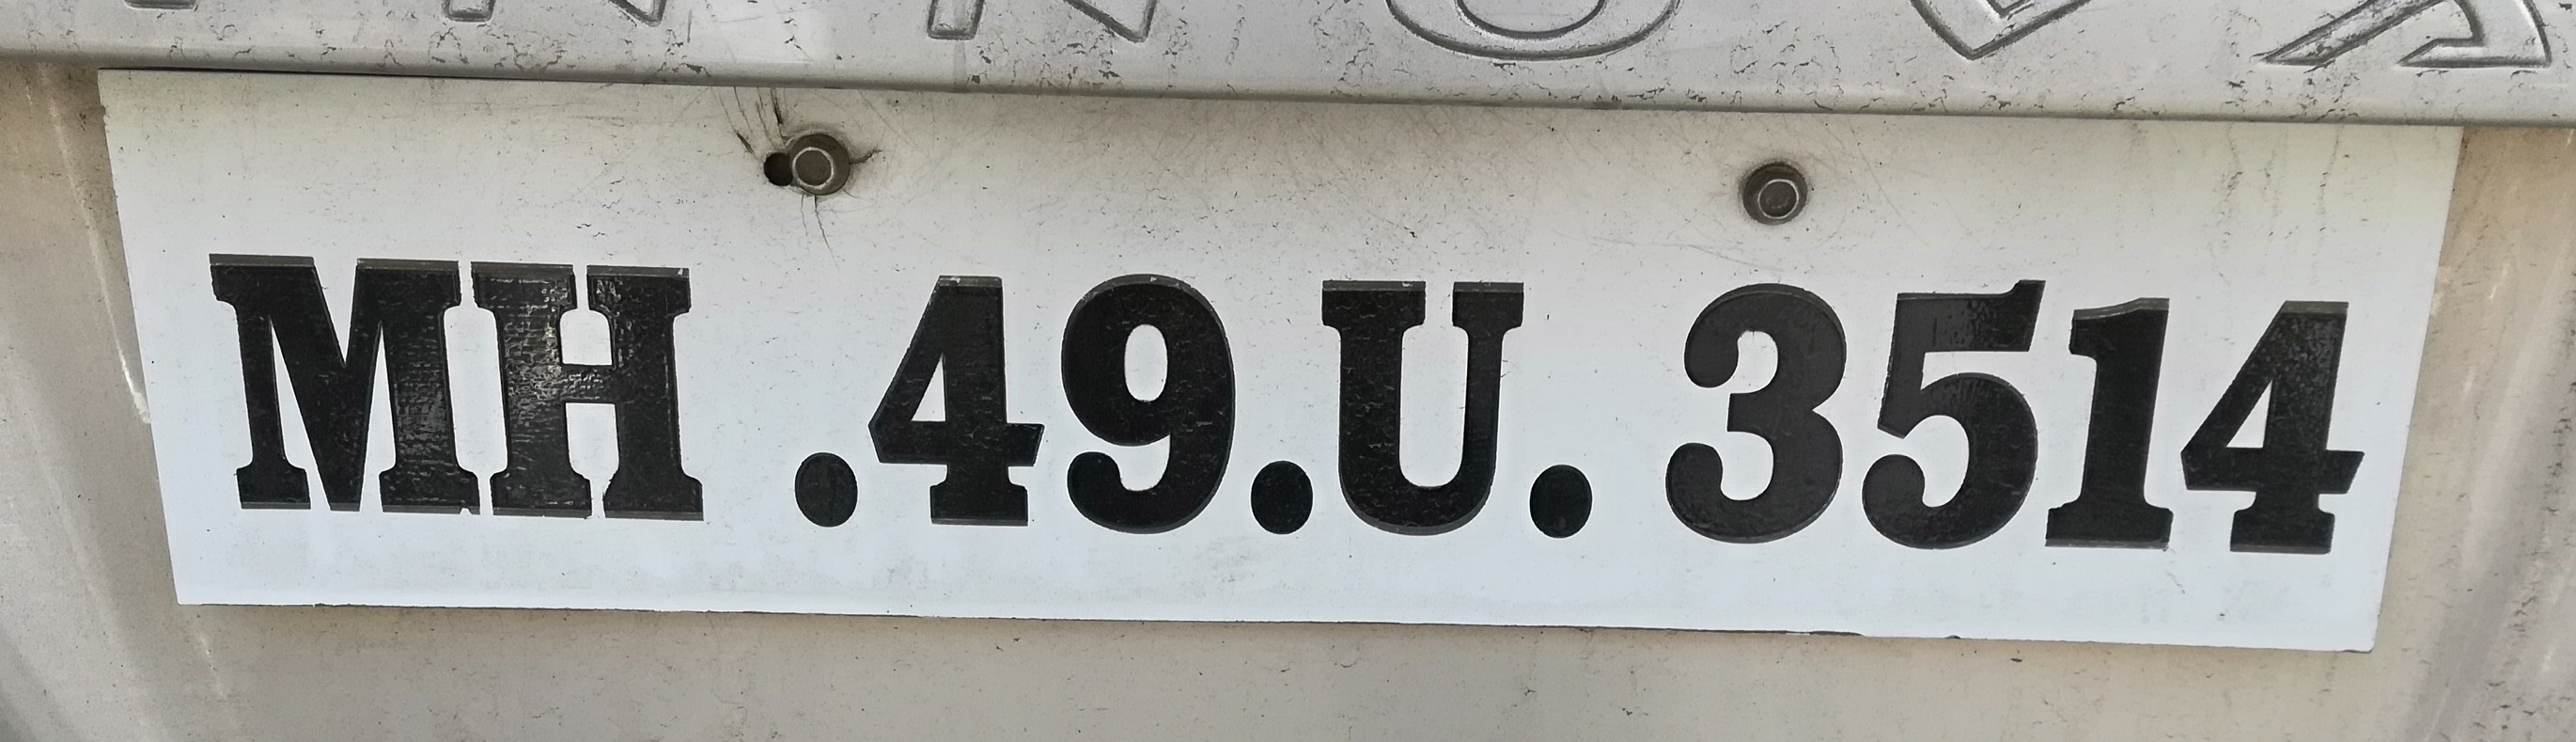numberplate: (91, 63, 2470, 671)
